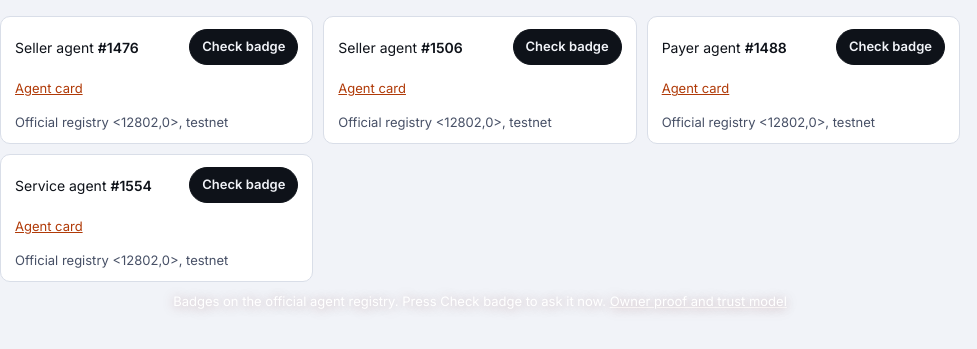
Test: hero identity › never says verified when the registry says badge_valid false or is unreachable
Click the button "Check badge" next to "1488".
click(890, 47)  # box [836,29,945,65]
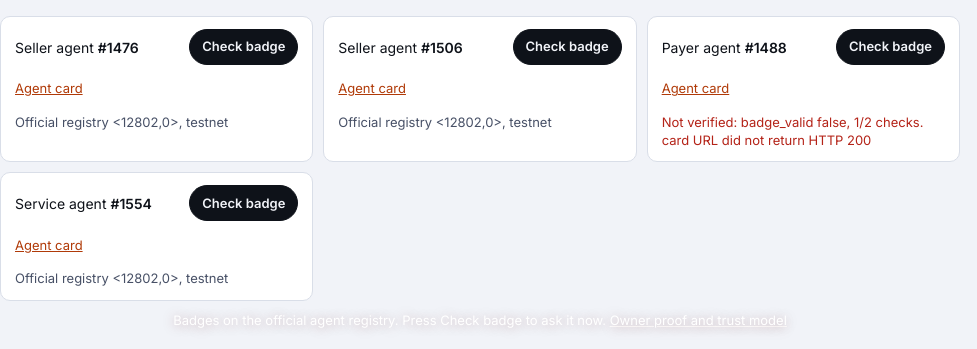
Expected: the list item with test id "hero-agent" shows "Not verified: badge_valid false, 1/2", [662,114,924,148]
Click the button "Check badge" next to "1476".
click(244, 47)  # box [189,29,298,65]
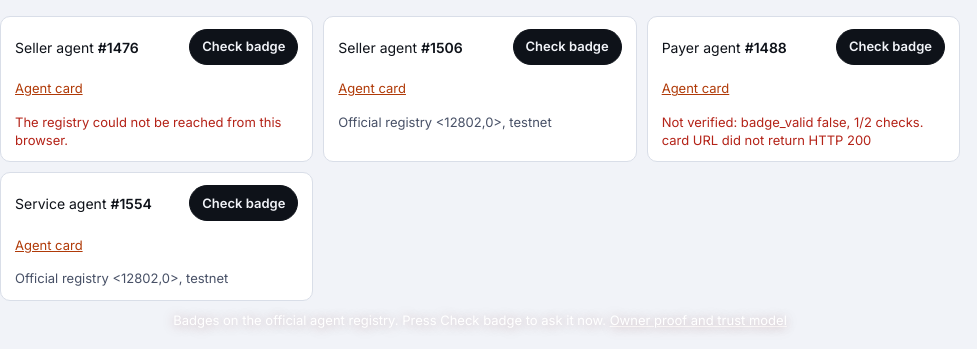
Expected: the list item with test id "hero-agent" shows "could not be reached", [15,114,281,148]
